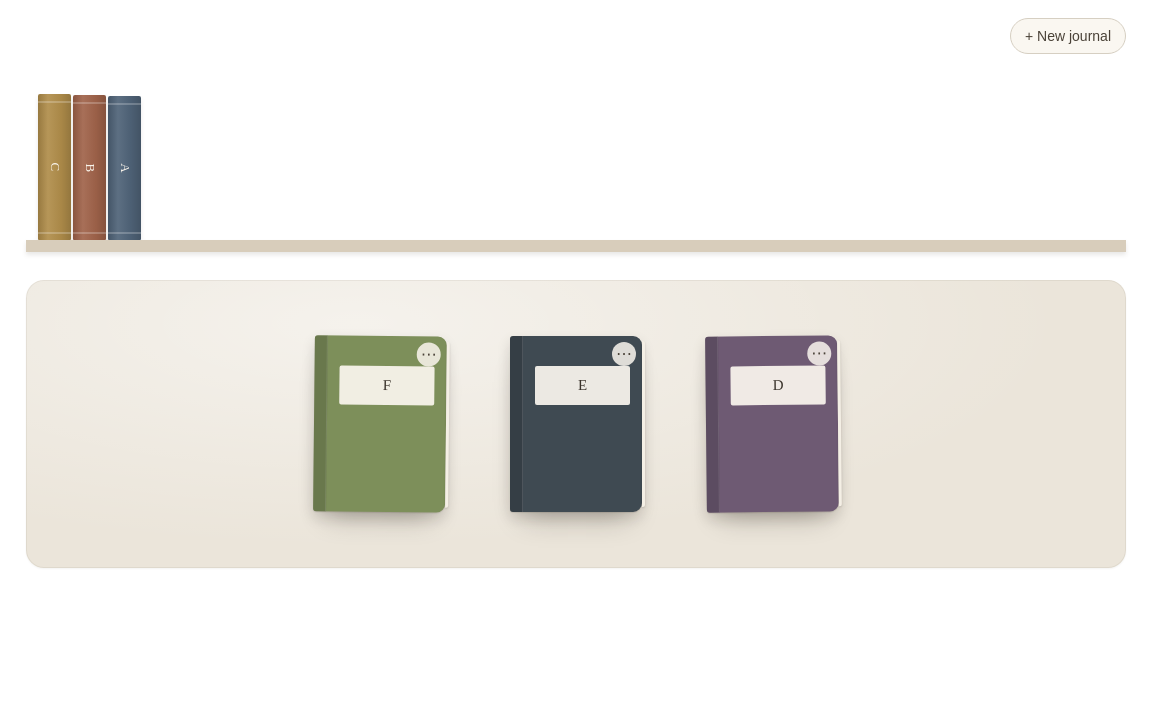
new journal › refuses the reserved Default name and keeps the form open
Later steps or results of the test are not shown.
Click the button "+ New journal" at (1068, 36), box [1010,18,1126,54]
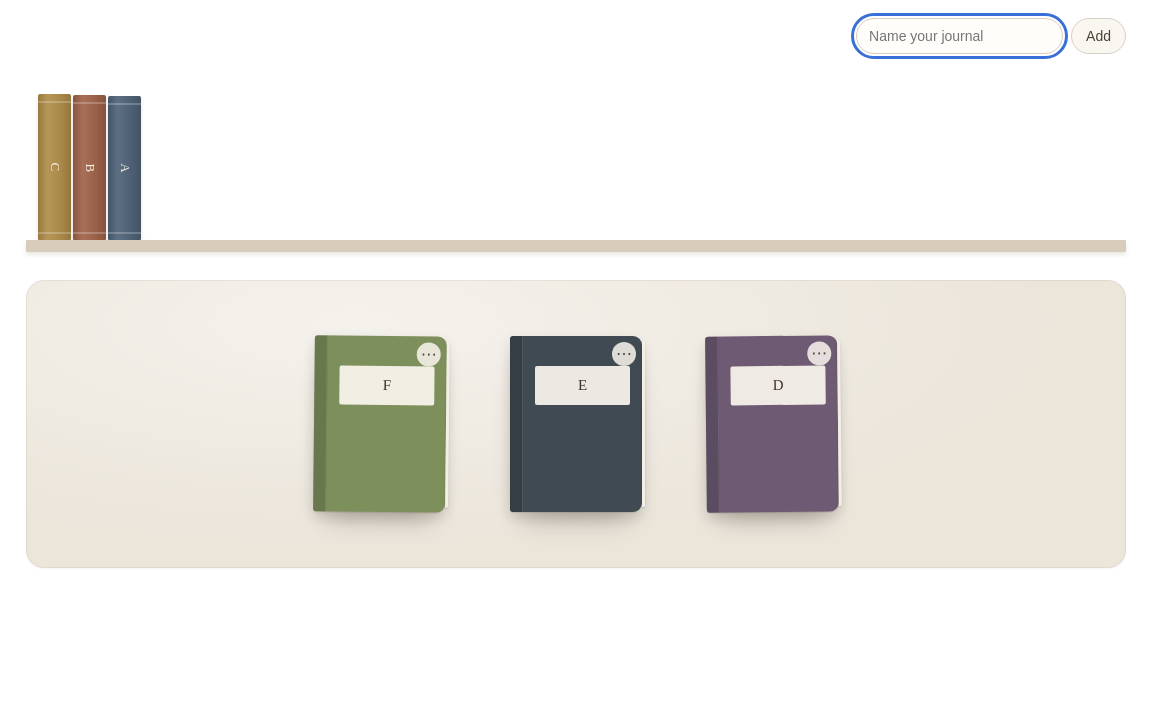
Type "  DEFAULT task list " into the field named "New journal name" at (960, 36), box [856,18,1063,54]
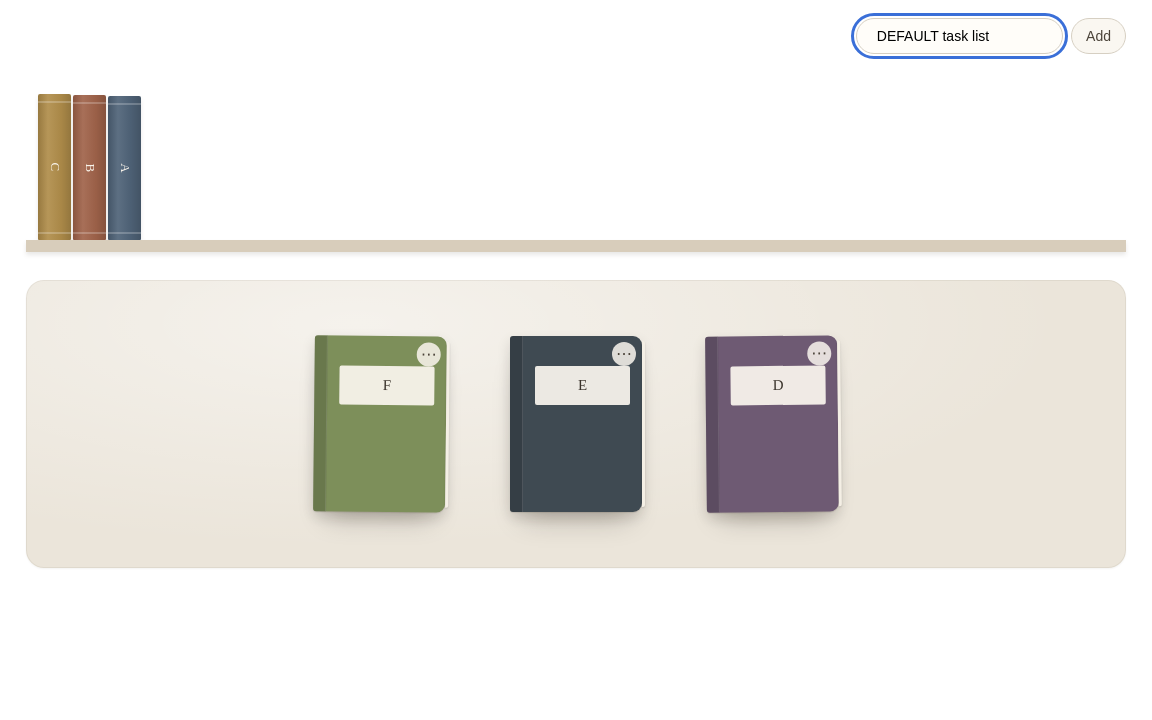
Submit the form named "New journal name", box [856,18,1126,54]
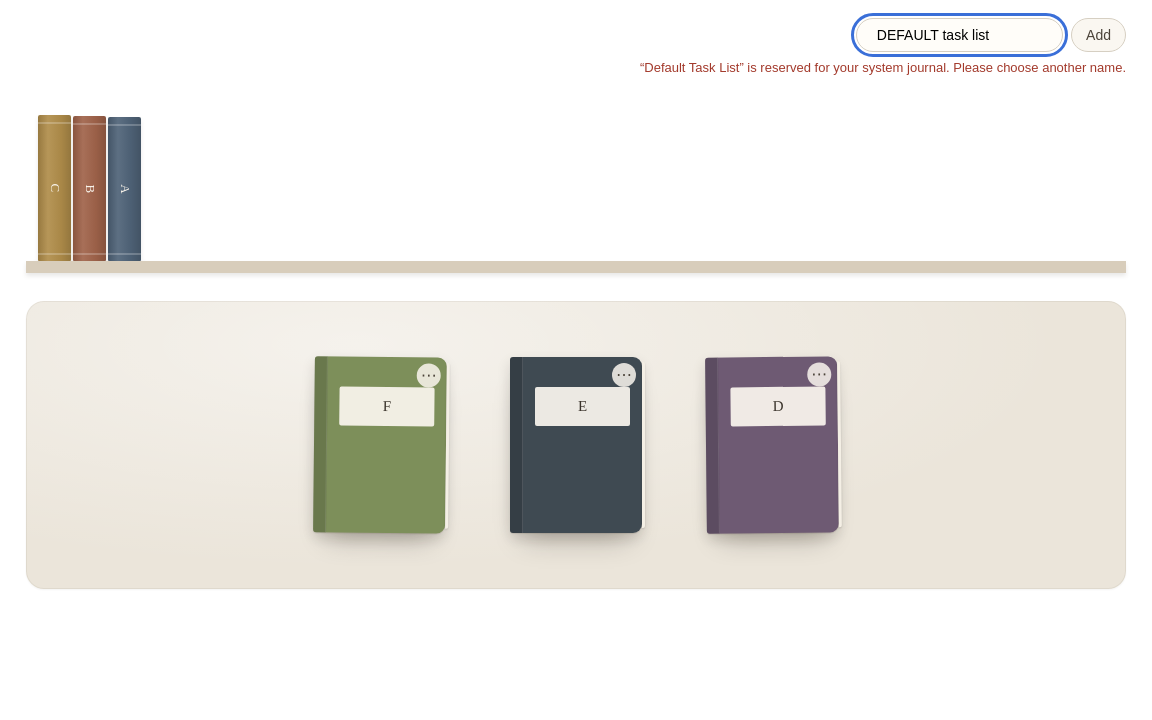
Now the message shows "reserved", box [640,60,1126,75]
Replace the text in the field named "New journal name" with "Default Task List ideas" at (960, 35), box [856,18,1063,52]
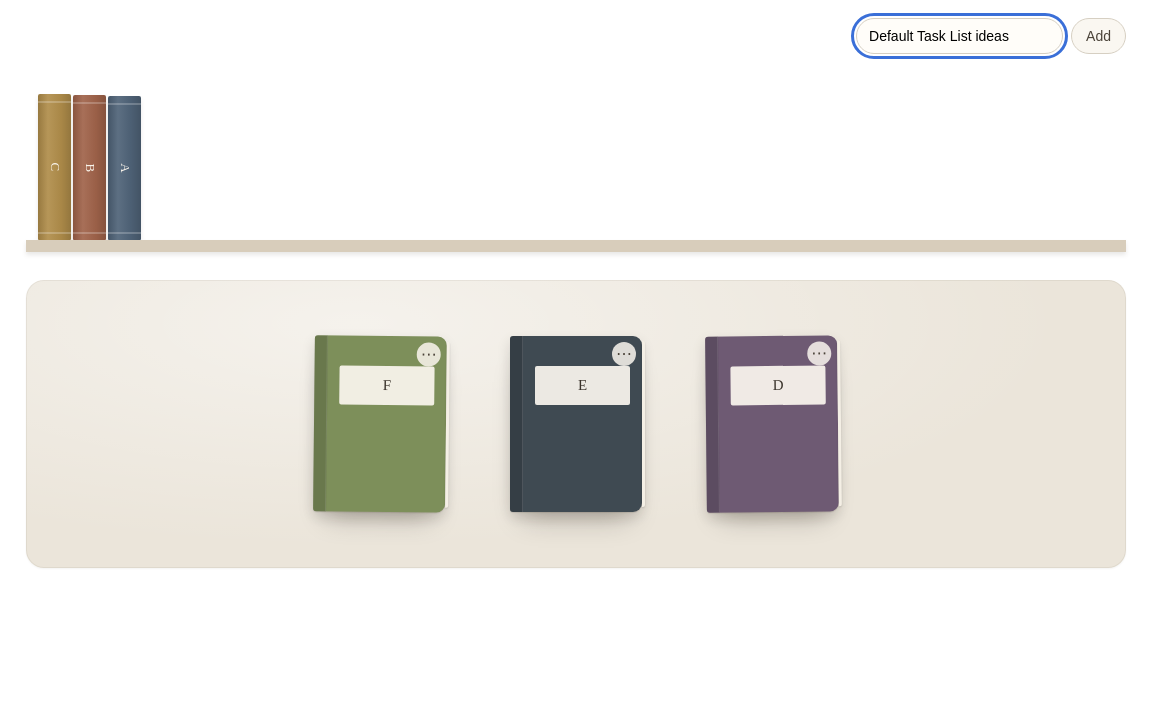
Now the message is gone
